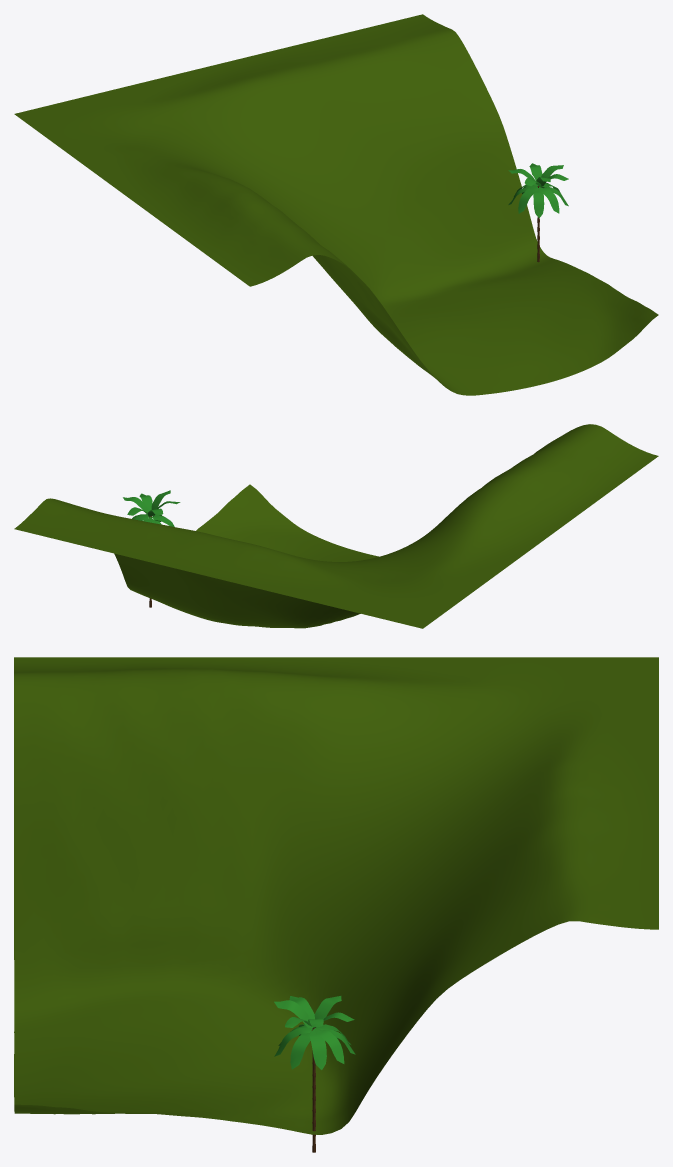
Rendered from terreno derecha abajo.fbx.
The picture shows the model from 3 angles, top to bottom: view 1: azimuth 30°, elevation 25°; view 2: azimuth 150°, elevation 25°; view 3: azimuth 270°, elevation 25°; orthographic projection. The views are drawn at different scales.
Visible parts, largest first — view 1: abajo derecha; view 2: abajo derecha; view 3: abajo derecha.
Part boxes in pixels (left/top/right/bottom): abajo derecha: left=14, top=14, right=658, bottom=395; abajo derecha: left=14, top=424, right=658, bottom=628; abajo derecha: left=14, top=657, right=658, bottom=1152.
Size of the model in its own units: 32681 by 13869 by 31438.
